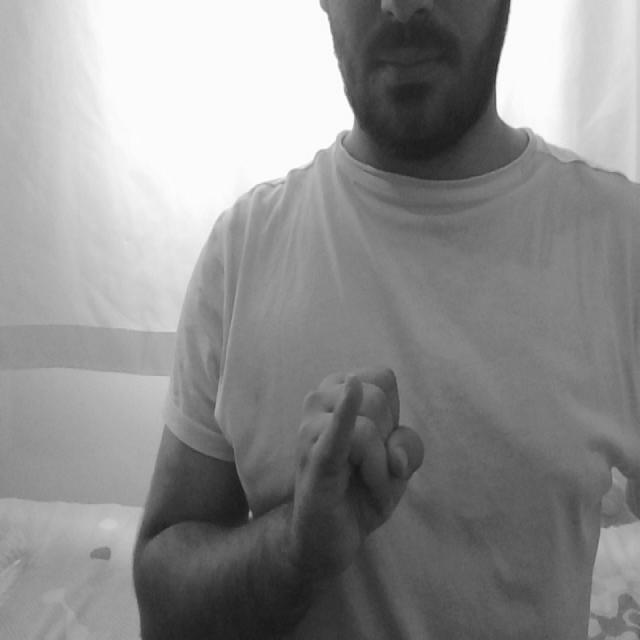kotu: (281, 349, 435, 542)
